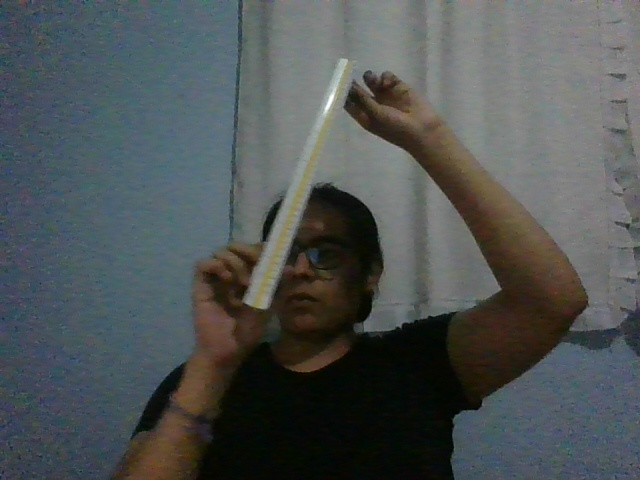regla: (241, 58, 358, 312)
